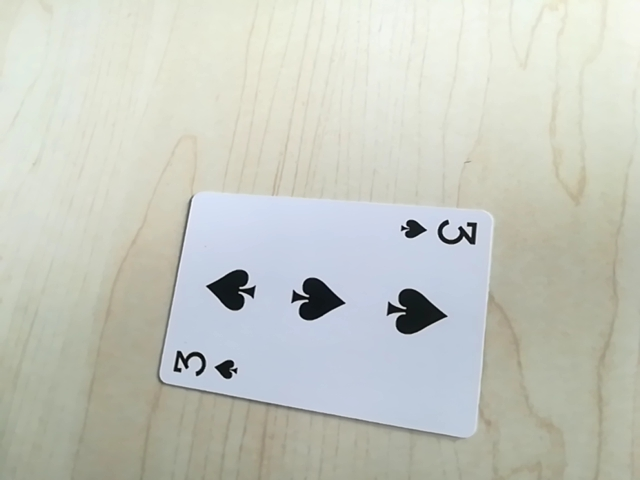ht 3: (395, 213, 484, 252), (166, 345, 244, 383)
